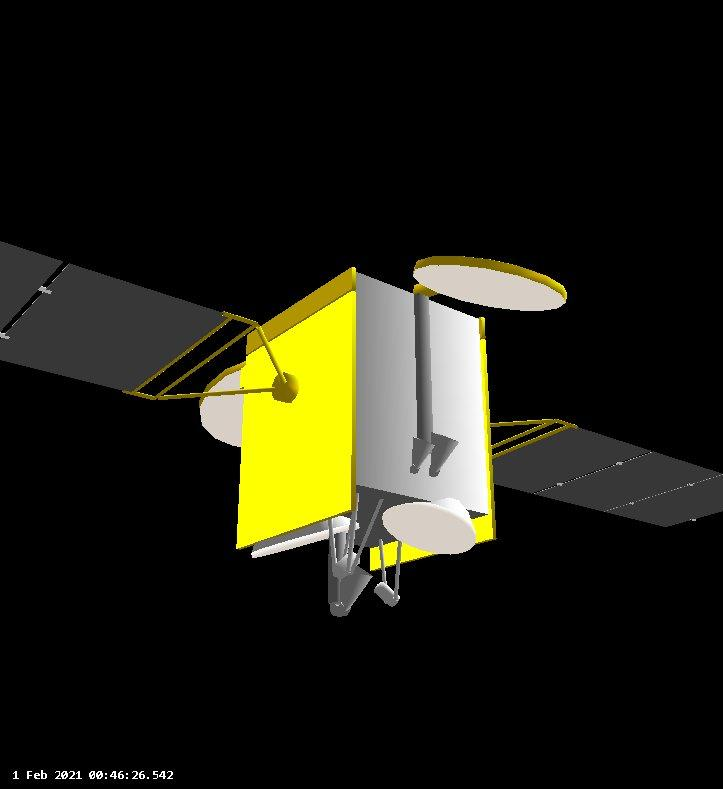antenna: (409, 253, 567, 316), (196, 361, 265, 456), (382, 498, 479, 558), (248, 510, 363, 556)
body: (234, 261, 499, 576)
solar: (0, 227, 257, 406), (493, 410, 723, 560)
thruster: (425, 430, 461, 480), (407, 429, 436, 479)
